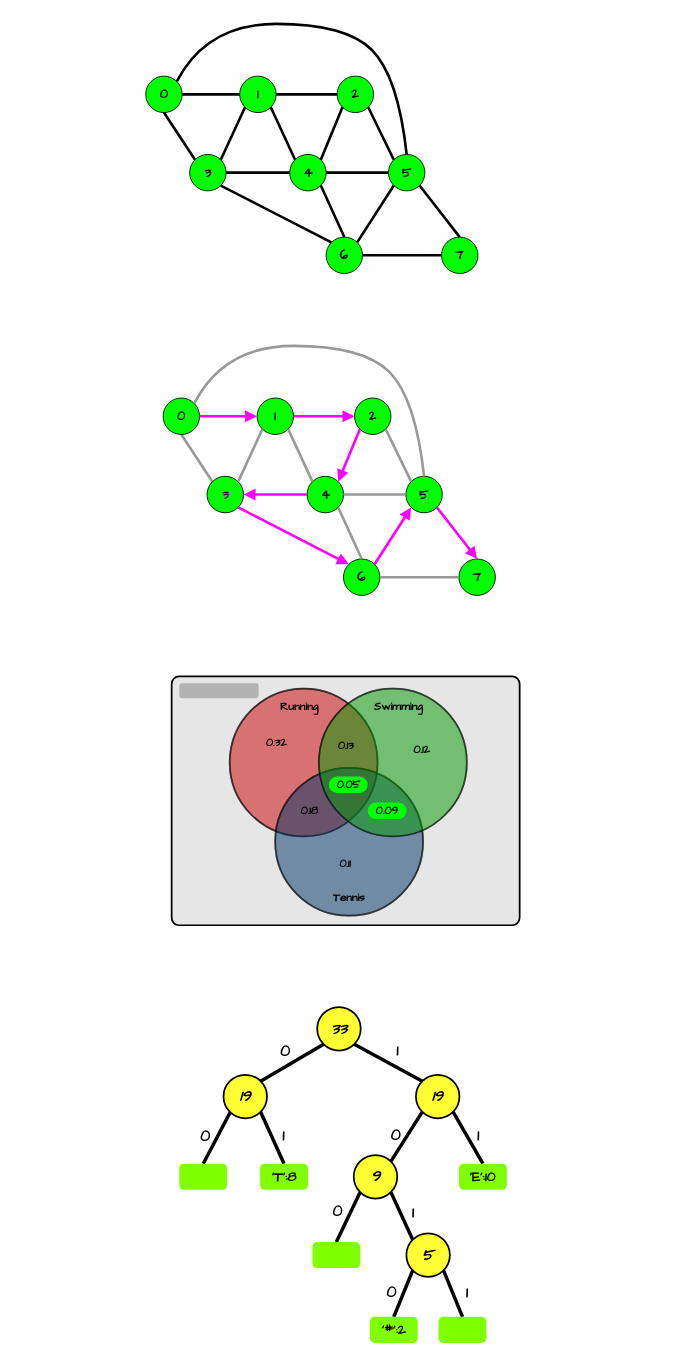
Image size: 686x1358. Some labels were removed from this diagram. Each missing label, with the centre of its shape:
"'O':6" goes at pixel 203 1176.
"'R':3" goes at pixel 462 1329.
"'S':4" goes at pixel 336 1255.
"Sample Space" goes at pixel 218 690.
